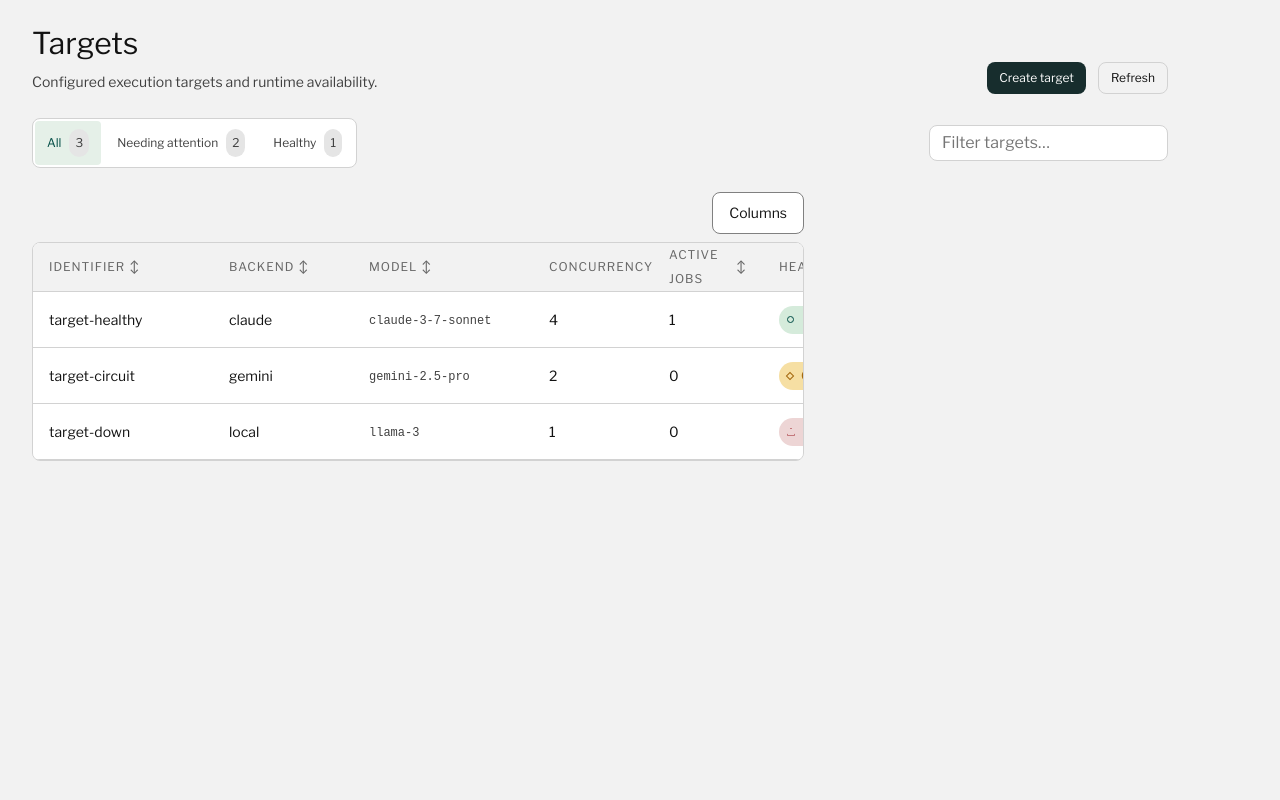
Targets screen › handles configuration conflict by preserving draft and offering reload
Expected: the text "target-healthy" is shown, [49, 310, 142, 328]
Click the button "Create target": x=1037, y=78 [987, 62, 1086, 94]
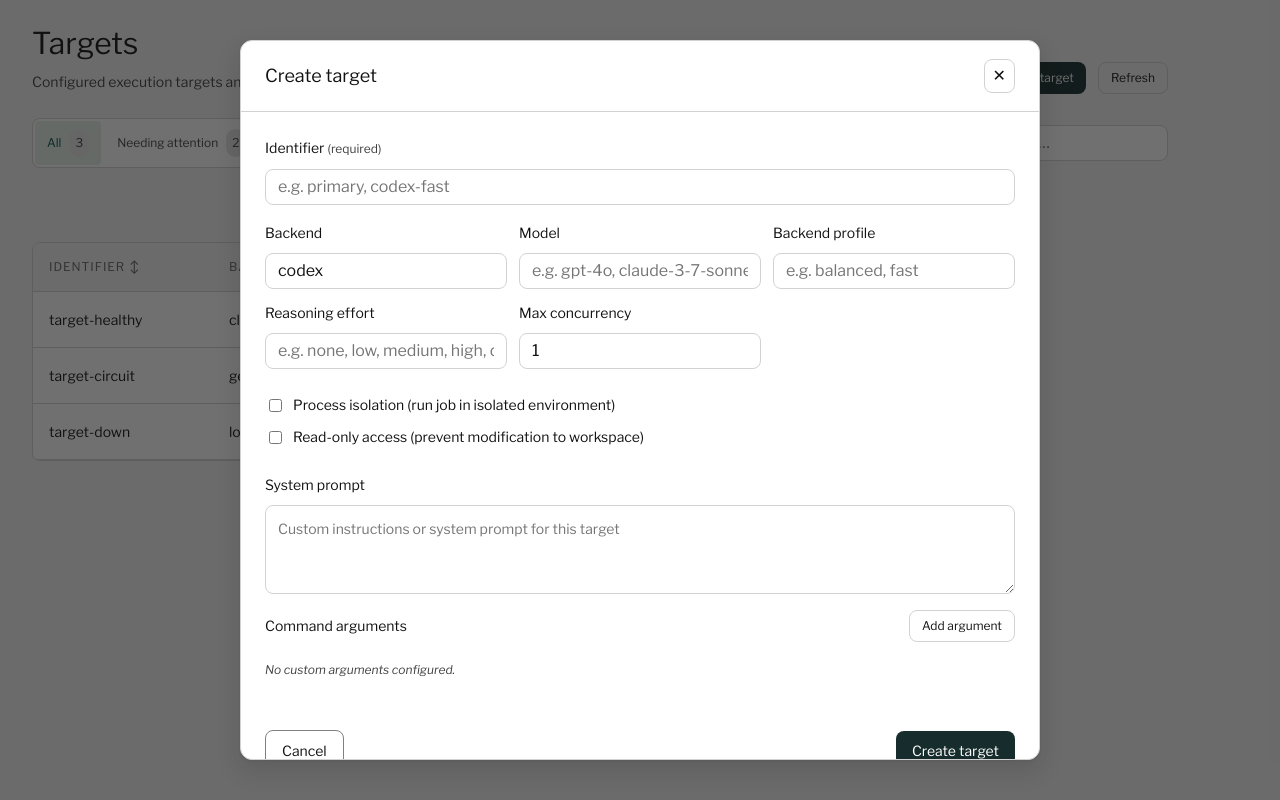
In the field labelled "Identifier (required)": x=640, y=187 [265, 169, 1015, 205], type "conflict-t"
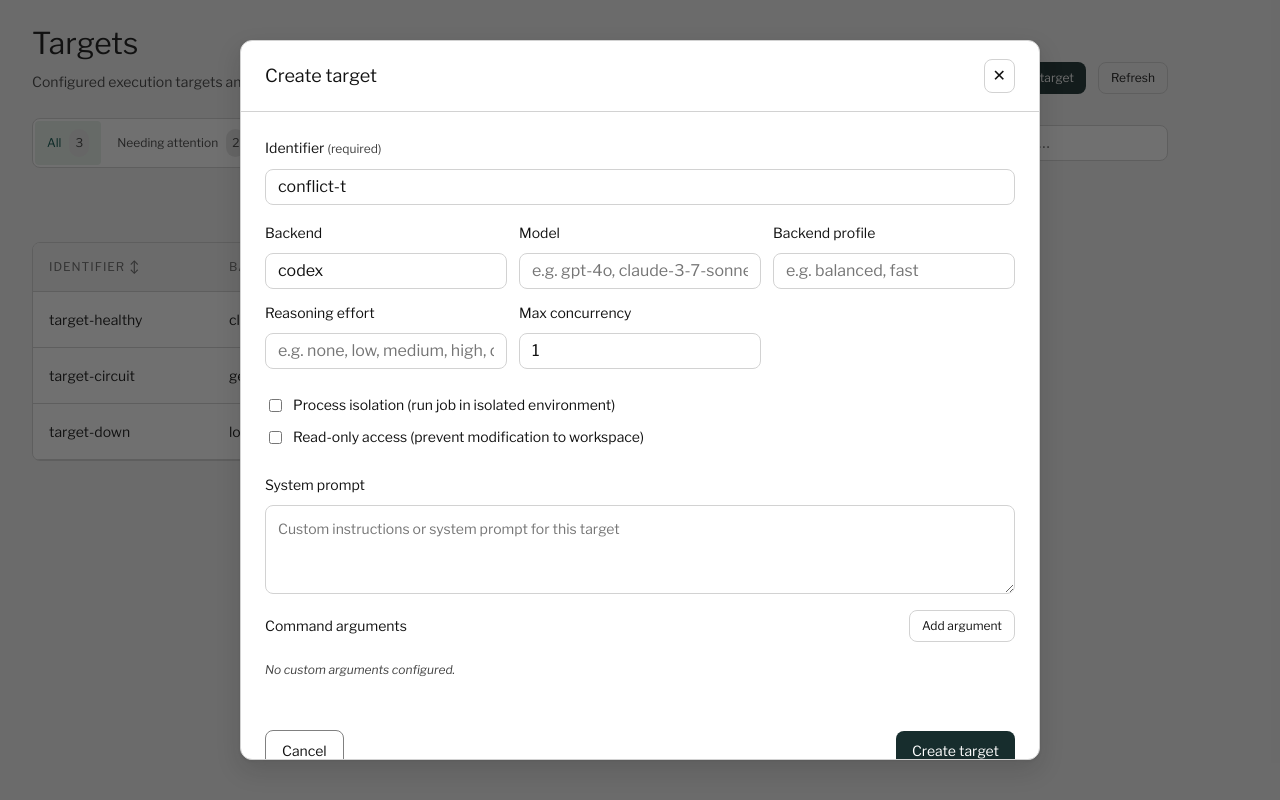
In the field labelled "Model": x=640, y=271 [519, 253, 761, 289], type "conflict-model"
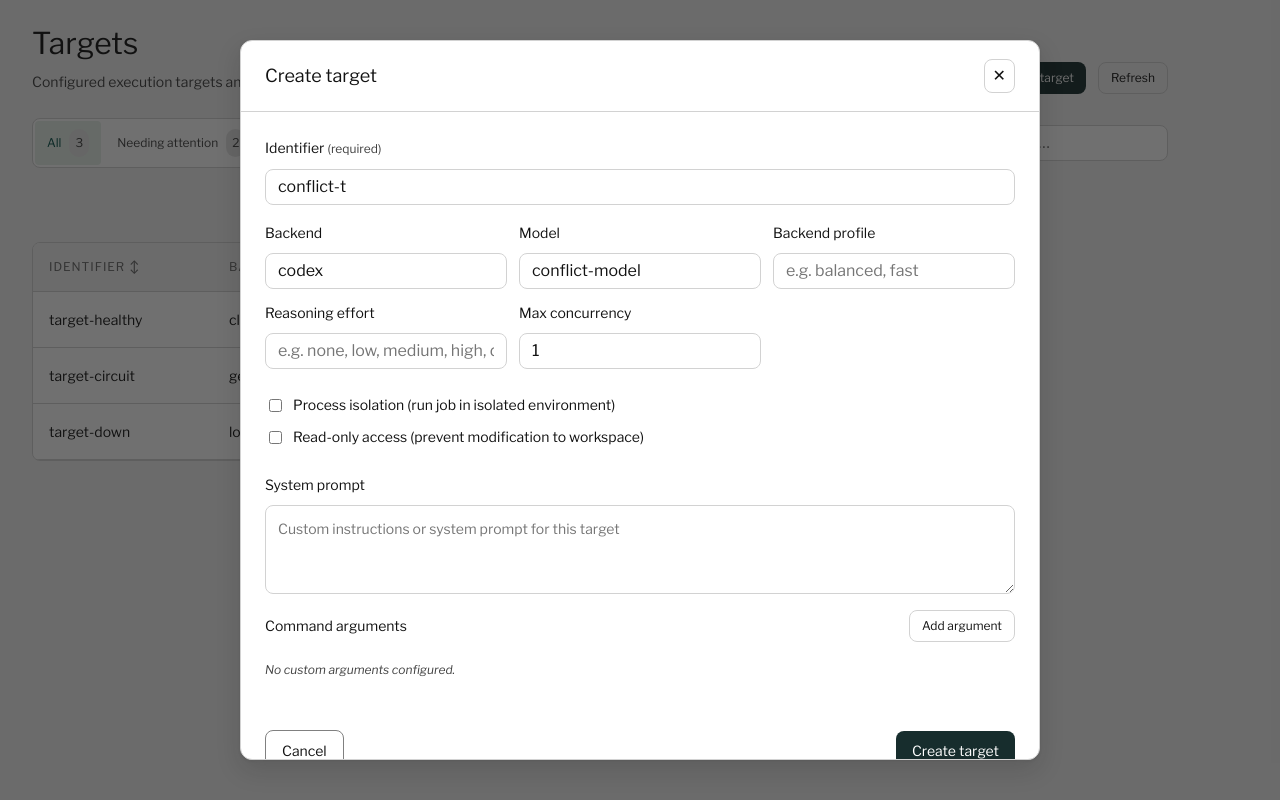
Click the button "Create target": x=955, y=751 [896, 731, 1015, 771]
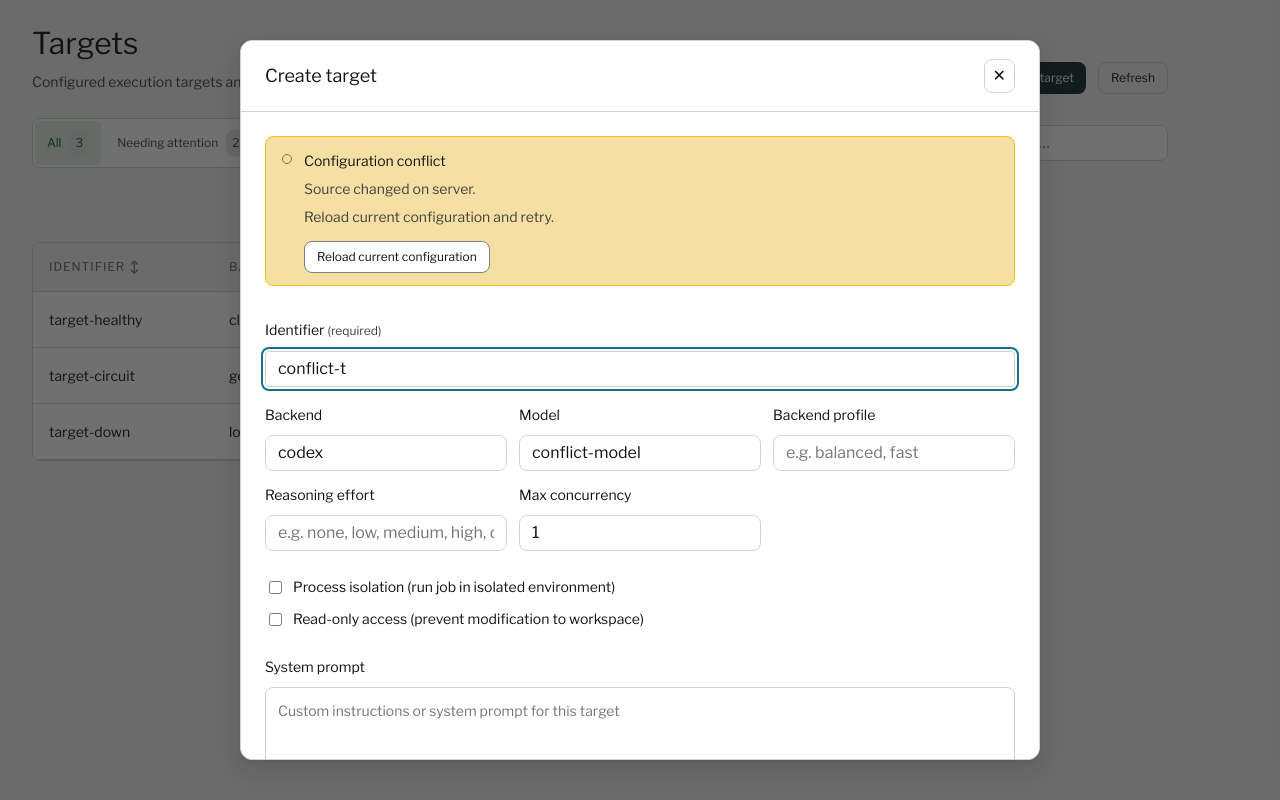
Expected: the text "Configuration conflict" is shown, [304, 152, 446, 169]
Expected: the text "Source changed on server." is shown, [304, 180, 475, 197]
Click the button "Reload current configuration": x=397, y=257 [304, 241, 490, 273]
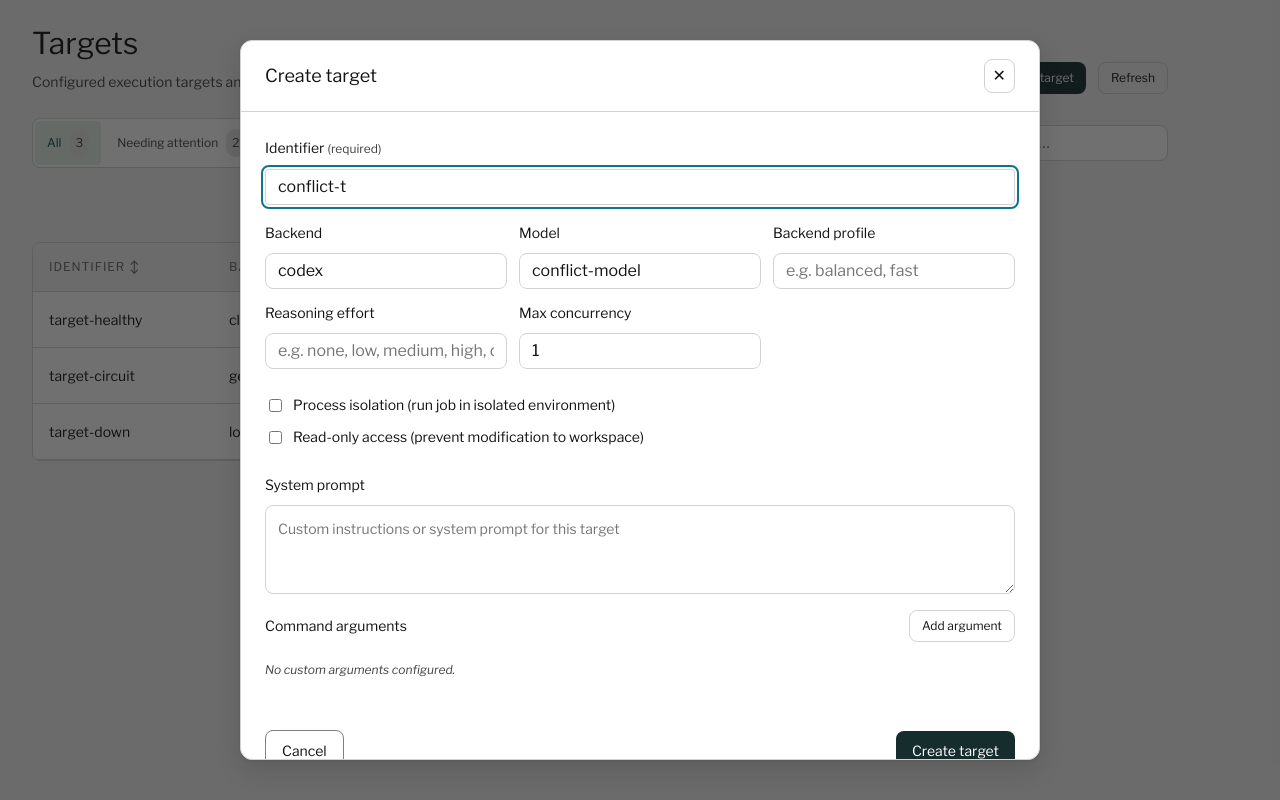
Expected: the text "Configuration conflict" is gone
